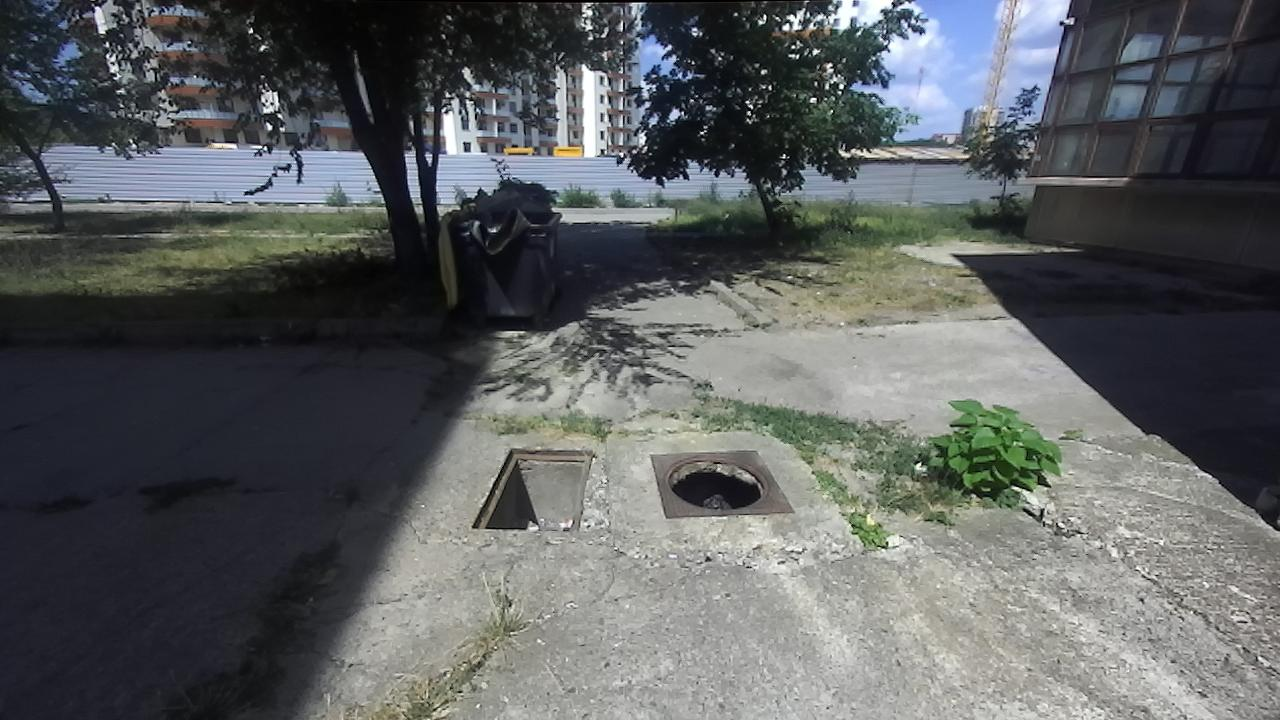drain: (468, 443, 597, 532), (662, 455, 775, 512)
